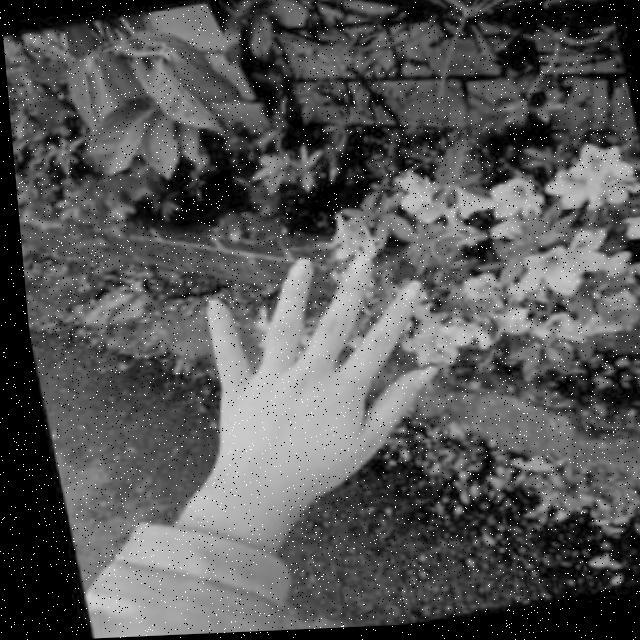no-gloves: (184, 242, 446, 504)
